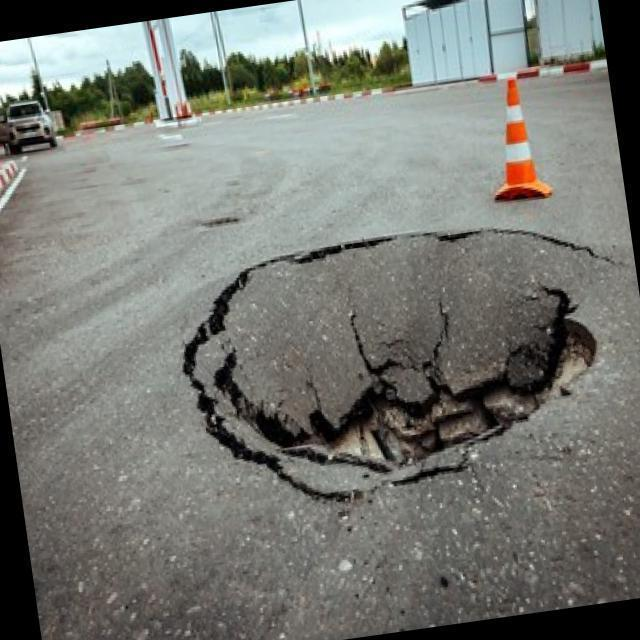pothole: (165, 205, 627, 529), (197, 211, 241, 235)
